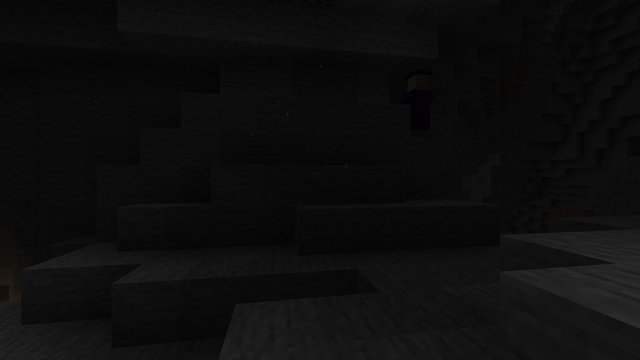sorcieres: (405, 70, 432, 137)
